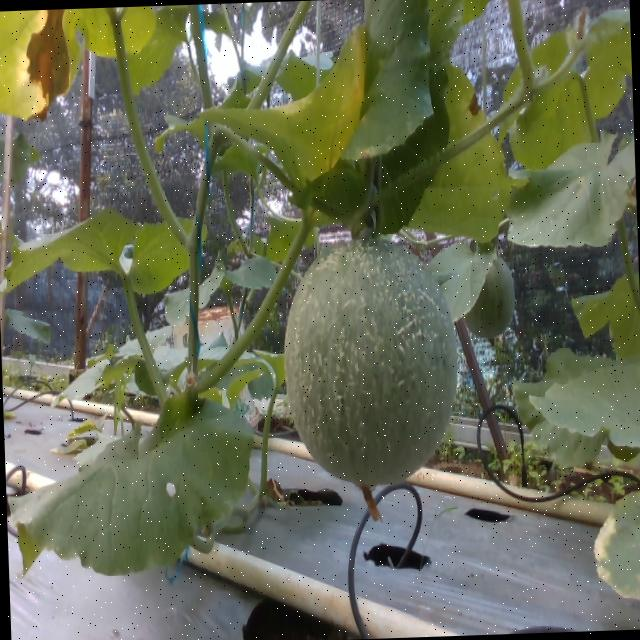melon: (285, 238, 458, 486)
